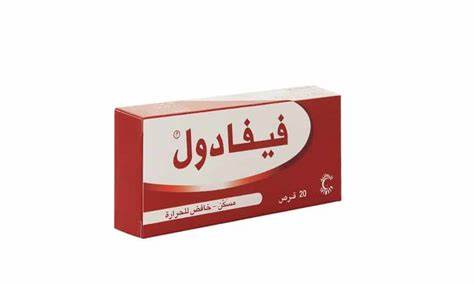Medicine: (112, 84, 348, 245)
